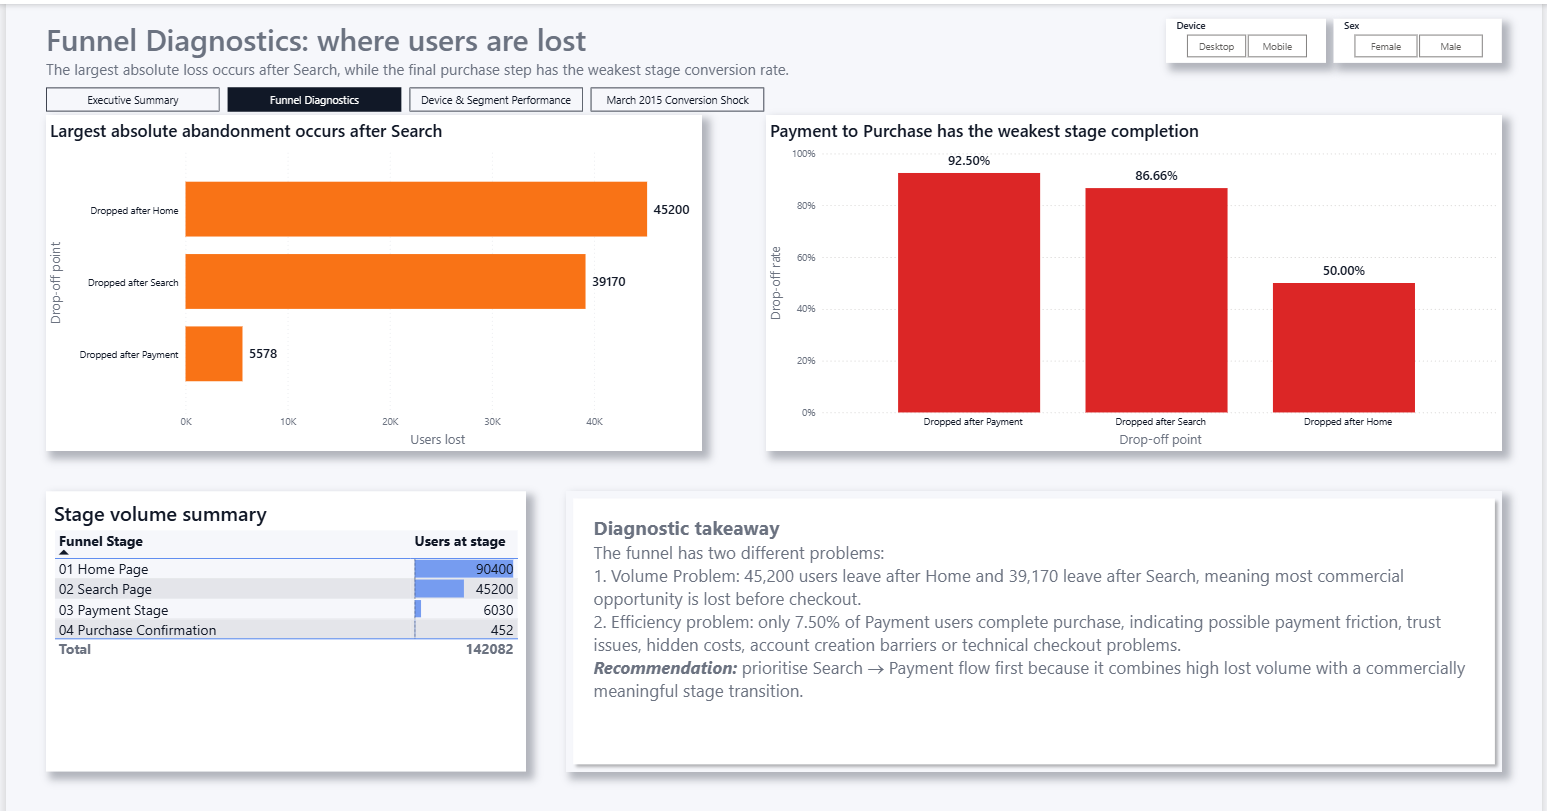

What the dashboard file says about the page in this screenshot:
{"tool":"powerbi","page":{"name":"Funnel Diagnostics","canvas":[1920,1080],"ordinal":1},"visuals":[{"type":"textbox","box":[50,30,900,50],"z":0},{"type":"textbox","box":[50,80,1000,32],"z":1000},{"type":"clusteredBarChart","title":"Largest absolute abandonment occurs after Search","fields":{"Category":["Dim Drop Off Stage.drop_stage"],"Y":["Dim Drop Off Stage.Dynamic Users Lost"]},"box":[50,150,820,420],"z":2000},{"type":"clusteredColumnChart","title":"Payment to Purchase has the weakest stage completion","fields":{"Category":["Funnel Drop Off.Stage"],"Y":["Sum(Funnel Drop Off.Drop Off Rate)"]},"box":[950,150,920,420],"z":3000},{"type":"tableEx","title":"Stage volume summary","fields":{"Values":["Funnel Stages.stage_name","Sum(Funnel Stages.users_at_stage)"]},"box":[50,620,600,350],"z":4000},{"type":"shape","box":[700,620,1170,350],"z":5000},{"type":"textbox","box":[735,650,1100,290],"z":6000},{"type":"slicer","fields":{"Values":["Dim Device.device"]},"box":[1450,30,200,55],"z":7000},{"type":"slicer","fields":{"Values":["Dim Sex.sex"]},"box":[1660,30,210,55],"z":8000},{"type":"pageNavigator","box":[50,115,900,30],"z":9000}]}

Visuals, with their boxes on the page's 1920x1080 design canvas (x1, y1, x2, y2). These are canvas units, not pixel positions in the 1547x811 screenshot, which may show the page scaled, cropped or inside an application window:
textbox: locate(50, 30, 950, 80)
textbox: locate(50, 80, 1050, 112)
"Largest absolute abandonment occurs after Search" clusteredBarChart: locate(50, 150, 870, 570)
"Payment to Purchase has the weakest stage completion" clusteredColumnChart: locate(950, 150, 1870, 570)
"Stage volume summary" tableEx: locate(50, 620, 650, 970)
shape: locate(700, 620, 1870, 970)
textbox: locate(735, 650, 1835, 940)
slicer - Dim Device.device: locate(1450, 30, 1650, 85)
slicer - Dim Sex.sex: locate(1660, 30, 1870, 85)
pageNavigator: locate(50, 115, 950, 145)
